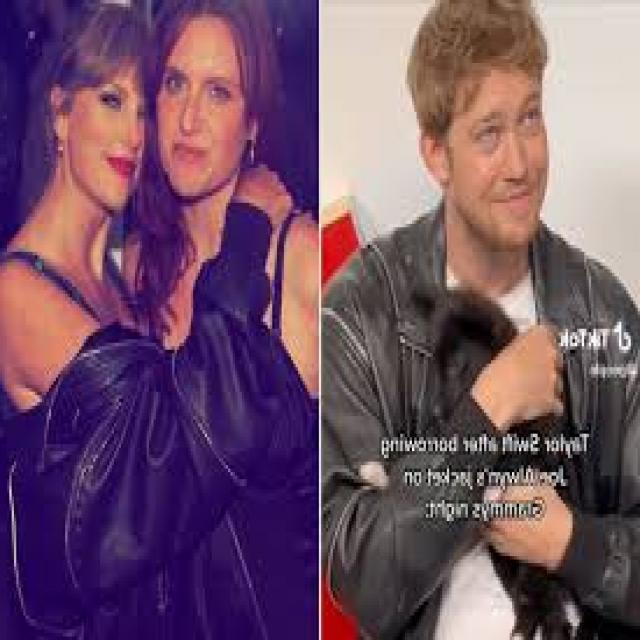Jacket: (334, 188, 636, 640), (37, 197, 289, 640)
